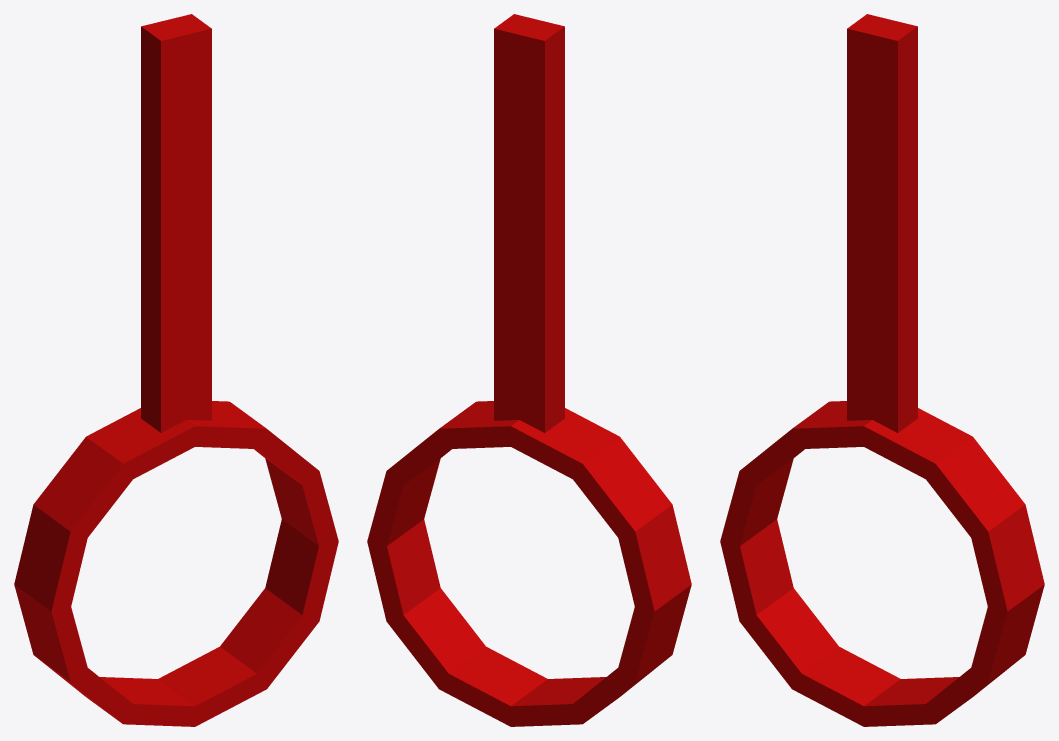
The model's file is Prop_Industrial_Pipe_Valve_04_1.FBX.
3 renders of one model, left to right at view 1: azimuth 30°, elevation 25°; view 2: azimuth 150°, elevation 25°; view 3: azimuth 330°, elevation 25°, orthographic.
Visible parts, largest first — view 1: Prop_Industrial_Pipe_Valve_04_1; view 2: Prop_Industrial_Pipe_Valve_04_1; view 3: Prop_Industrial_Pipe_Valve_04_1.
Boxes of the visible parts, <box> form: Prop_Industrial_Pipe_Valve_04_1: <box>14,14,338,726</box>; Prop_Industrial_Pipe_Valve_04_1: <box>367,14,691,726</box>; Prop_Industrial_Pipe_Valve_04_1: <box>720,14,1044,726</box>.
Bounding box in the file's own units: 348 × 793 × 78.
